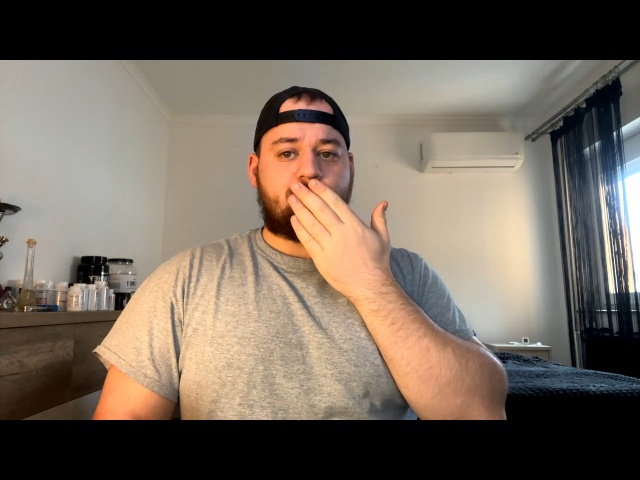ThankYou: (286, 178, 391, 285)
